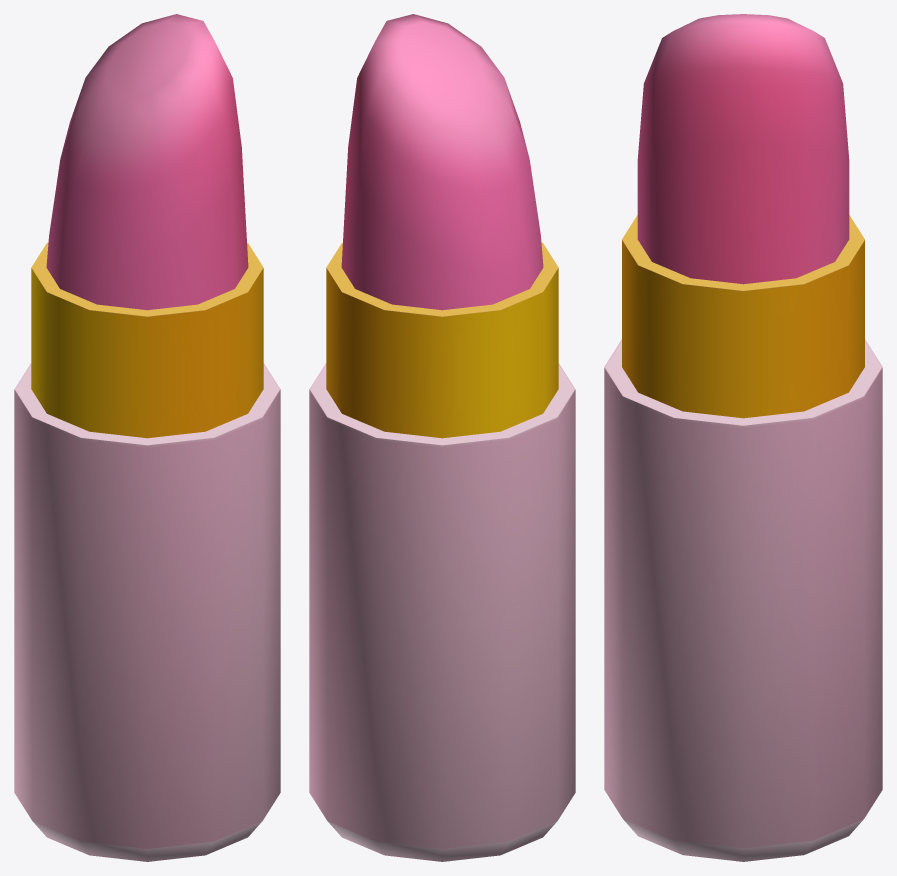
The model's file is ENV2010085.fbx.
The picture shows the model from 3 angles, left to right: view 1: azimuth 30°, elevation 25°; view 2: azimuth 150°, elevation 25°; view 3: azimuth 270°, elevation 25°; orthographic projection. The views are drawn at different scales.
Parts seen in each view (by area): view 1: smENV2010085; view 2: smENV2010085; view 3: smENV2010085.
Boxes of the visible parts, <box> form: smENV2010085: <box>14,14,280,861</box>; smENV2010085: <box>309,14,575,861</box>; smENV2010085: <box>604,14,882,861</box>.
Size of the model in its own units: 1.84 by 5.95 by 1.84.
1 material, 1 textured.
